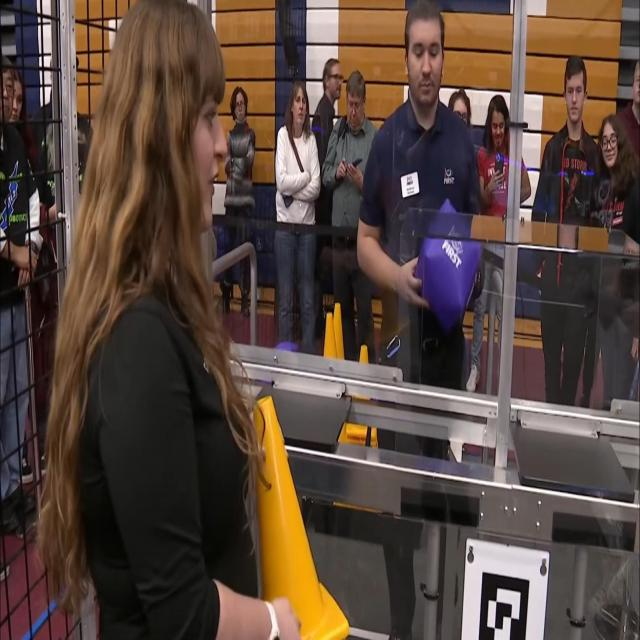frc_cone: (256, 396, 347, 637), (322, 308, 340, 358), (333, 298, 348, 358), (346, 425, 378, 453), (361, 346, 369, 364)
frc_cube: (414, 198, 480, 327)
